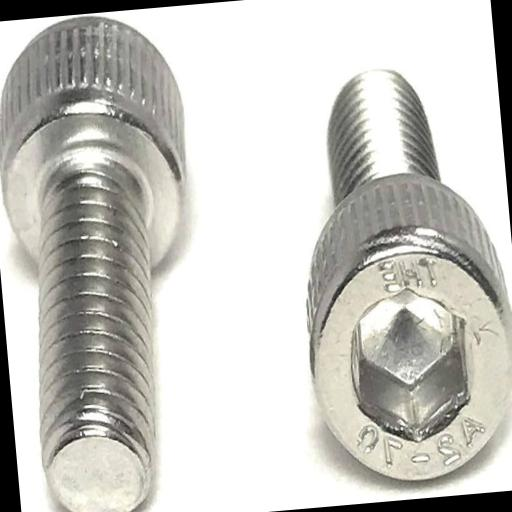Hex-Allen: (295, 175, 512, 496)
